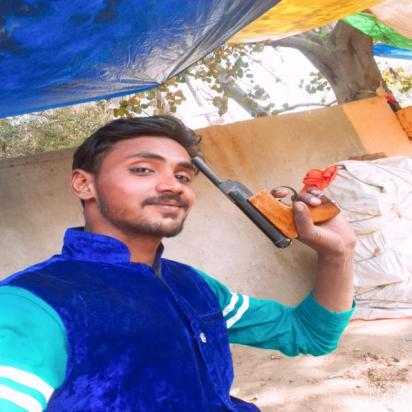Gun: (189, 152, 344, 252)
